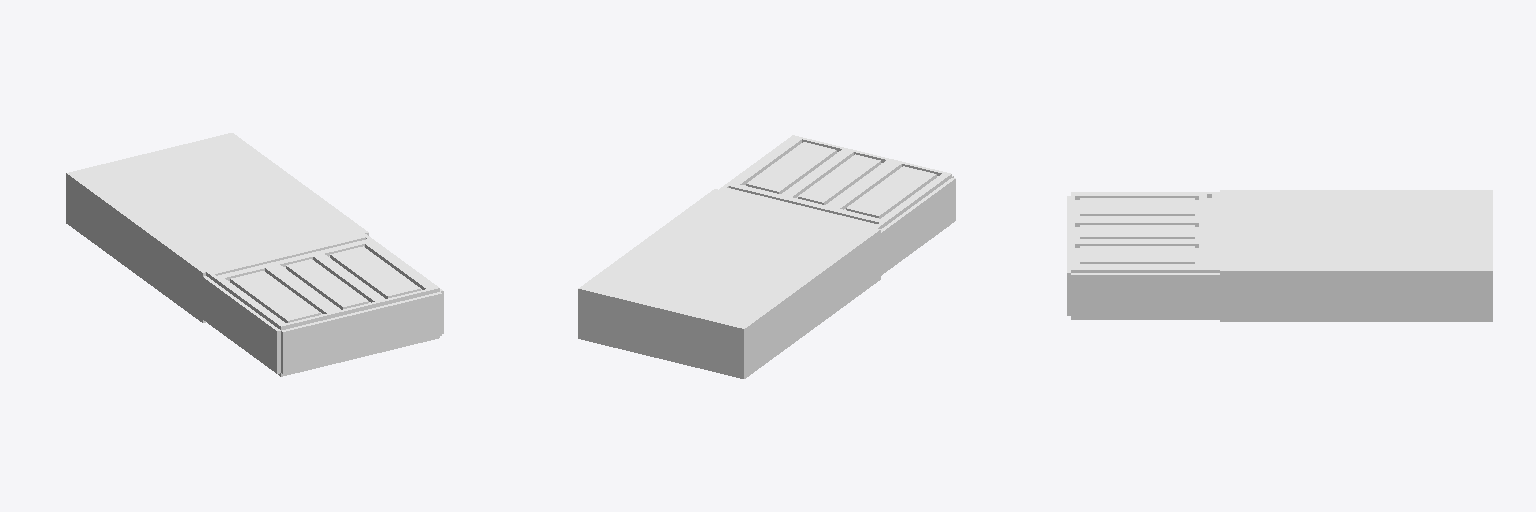
Rendered from chocolate.obj.
3 renders of one model, left to right at view 1: azimuth 30°, elevation 25°; view 2: azimuth 150°, elevation 25°; view 3: azimuth 270°, elevation 25°, orthographic.
Visible parts, largest first — view 1: chocolate; view 2: chocolate; view 3: chocolate.
Part boxes in pixels (x1,y1,x2,y2): chocolate: (66,133,443,376); chocolate: (578,135,955,378); chocolate: (1067,190,1492,321).
Bounding box in the file's own units: 45 × 13 × 100.